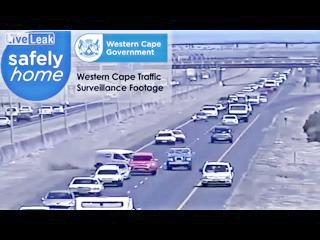Car: (200, 160, 234, 186), (94, 149, 134, 170), (127, 151, 159, 177), (76, 196, 135, 210), (68, 176, 104, 195), (94, 165, 124, 187), (41, 190, 75, 209), (166, 147, 193, 170), (210, 126, 234, 144), (228, 103, 250, 122), (155, 130, 175, 145), (169, 129, 186, 143), (247, 91, 261, 107), (200, 105, 218, 117), (221, 115, 239, 126), (15, 113, 32, 122), (5, 107, 20, 117), (192, 112, 208, 121), (260, 86, 276, 95), (39, 106, 54, 115), (19, 106, 34, 115), (0, 116, 11, 127), (218, 96, 230, 106), (52, 105, 64, 114), (226, 94, 238, 103), (213, 104, 225, 112), (234, 90, 244, 98), (259, 95, 268, 103), (60, 100, 70, 107), (200, 72, 209, 79), (171, 80, 180, 86), (189, 76, 197, 81)
Major Accident: (93, 147, 161, 177)
